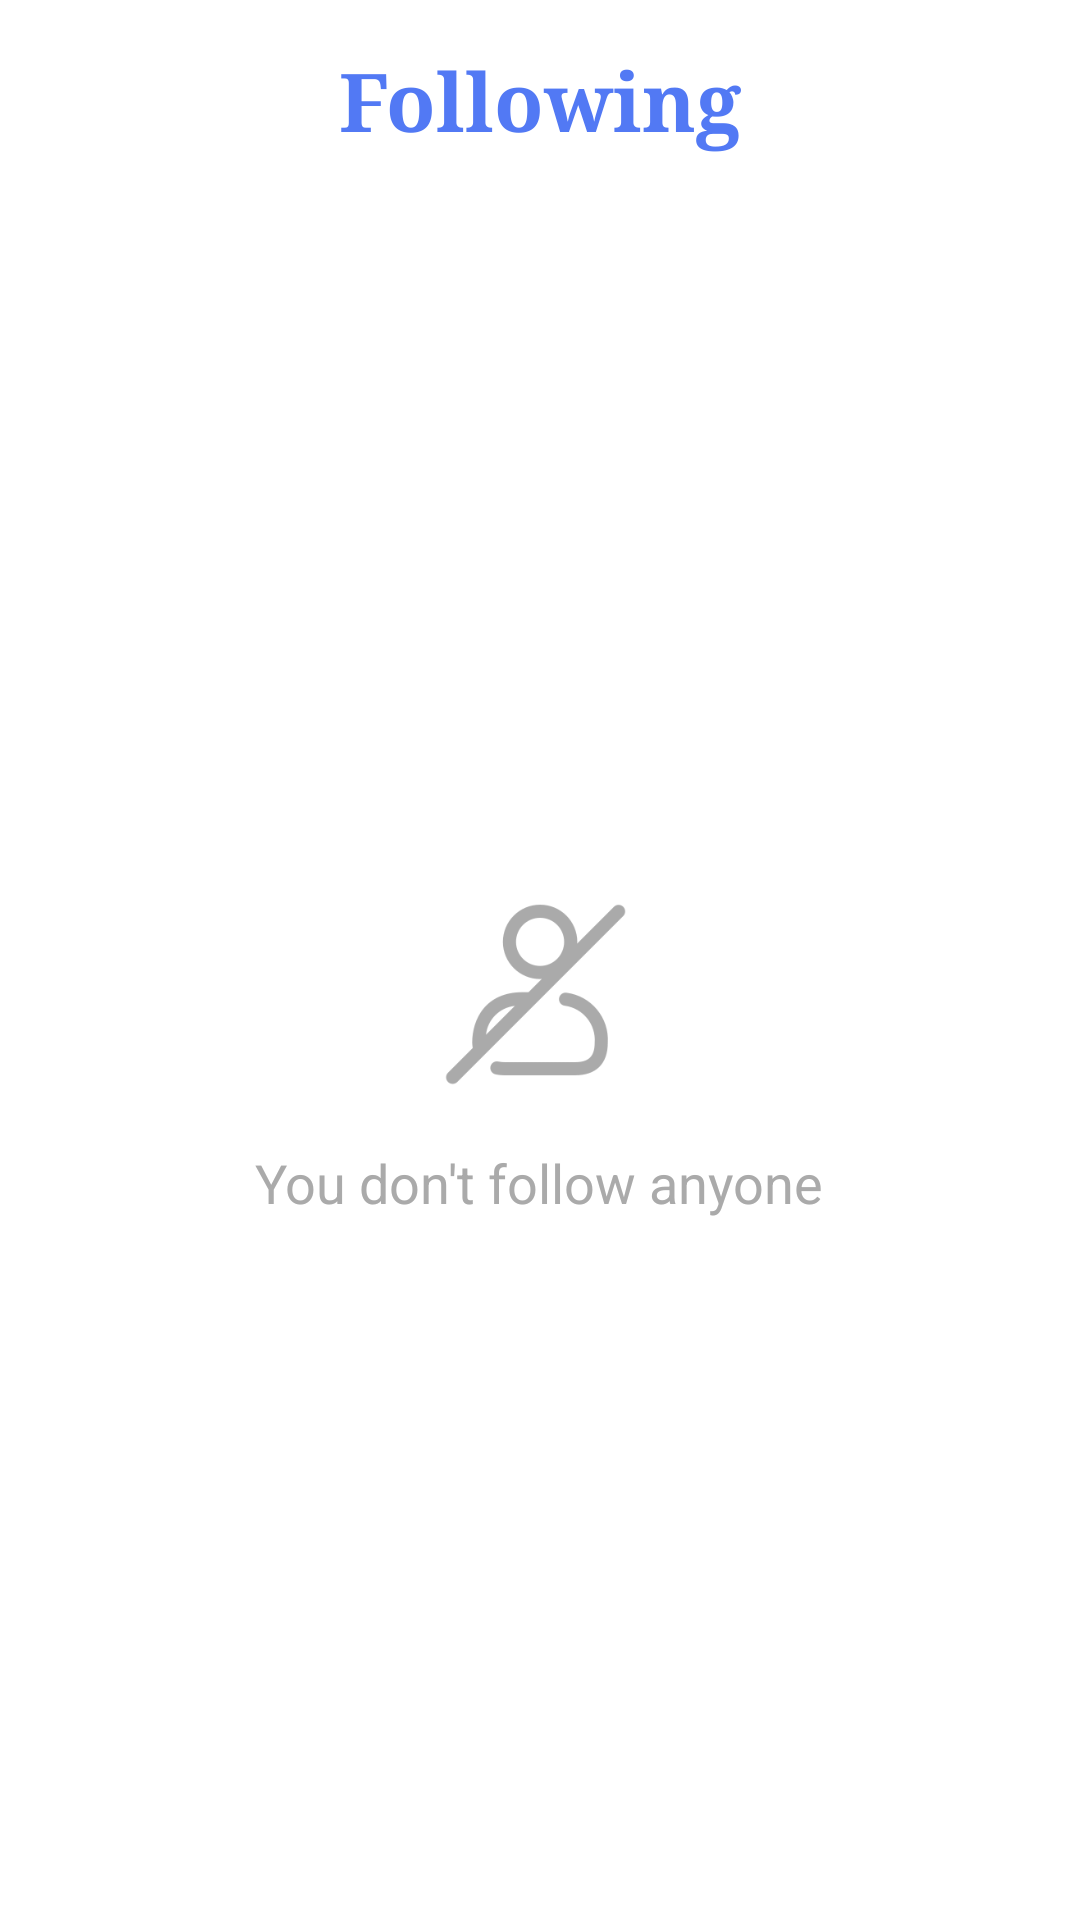

Icon click points for this 1080x1920 phone screenshot, format point (x, y):
no person: point (535, 994)
